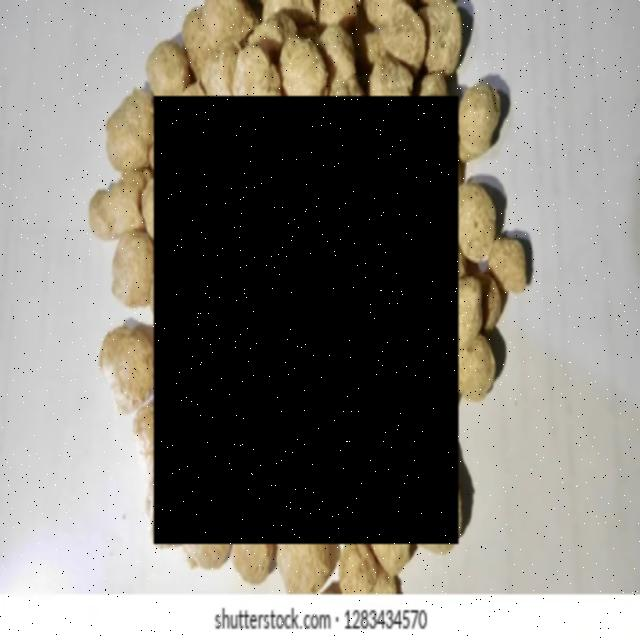Nutrela: (153, 96, 459, 544)
